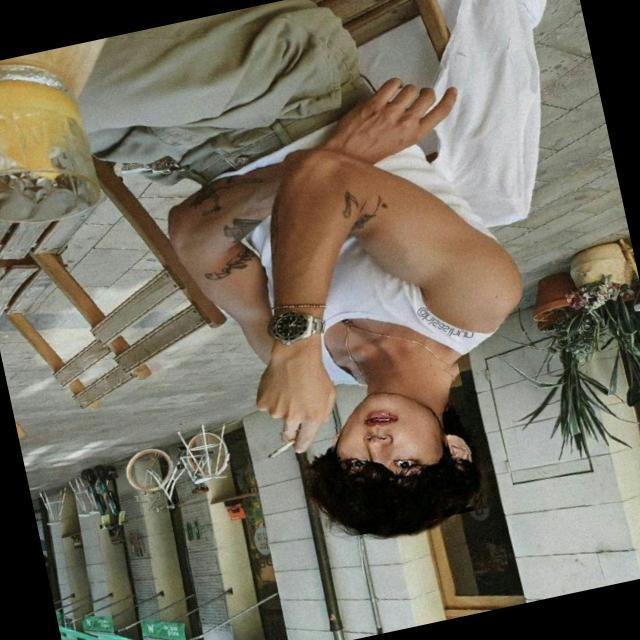cigarette: (253, 426, 312, 476)
